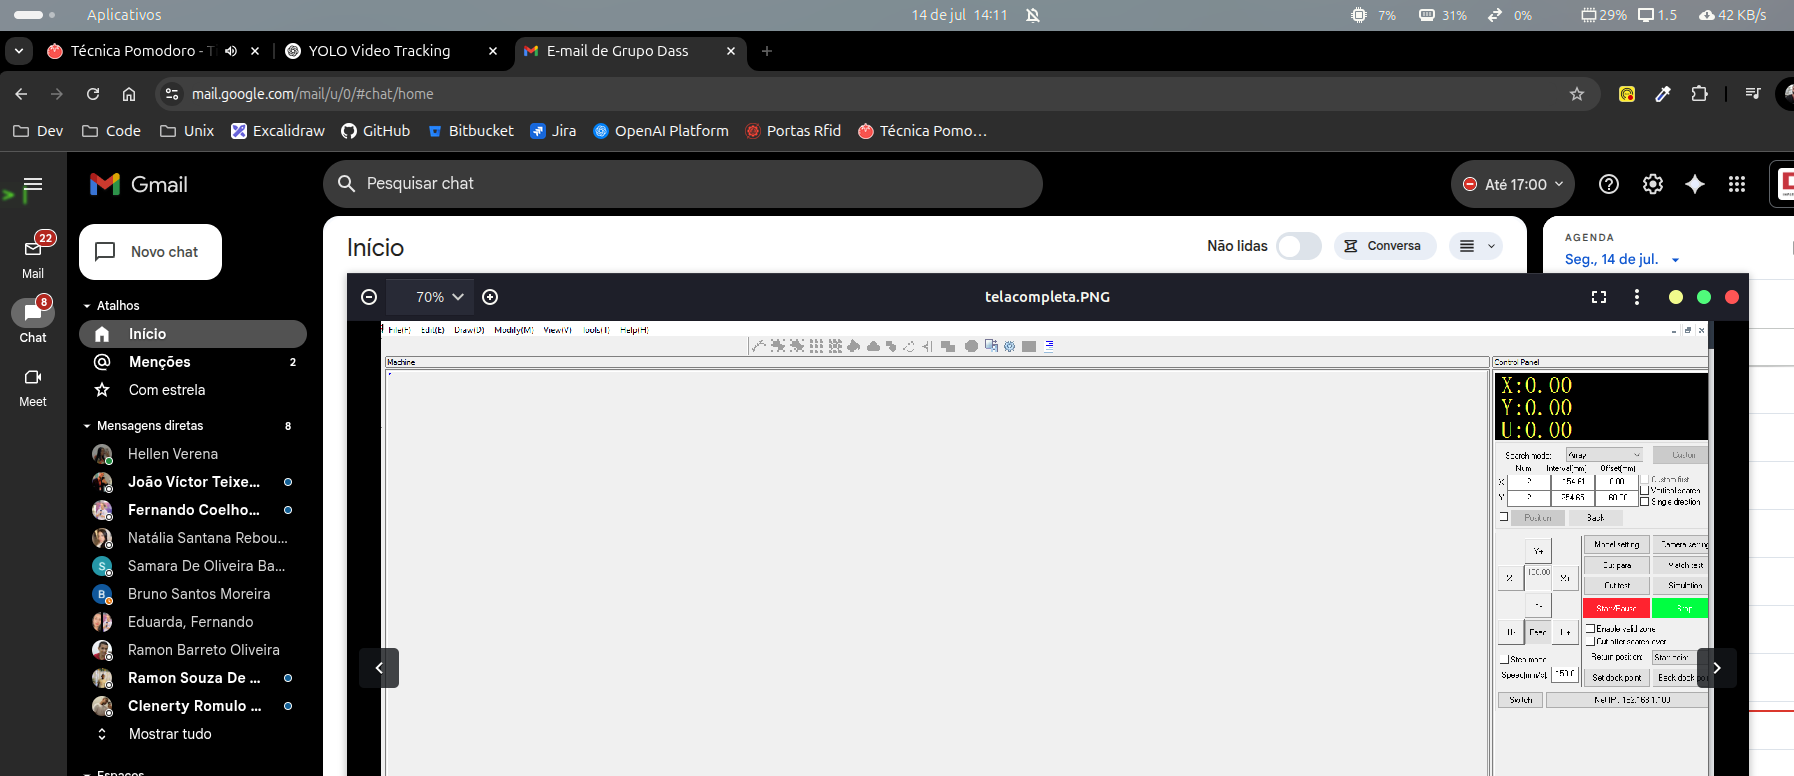start: (1581, 596, 1649, 618)
timer: (1596, 464, 1638, 507)
